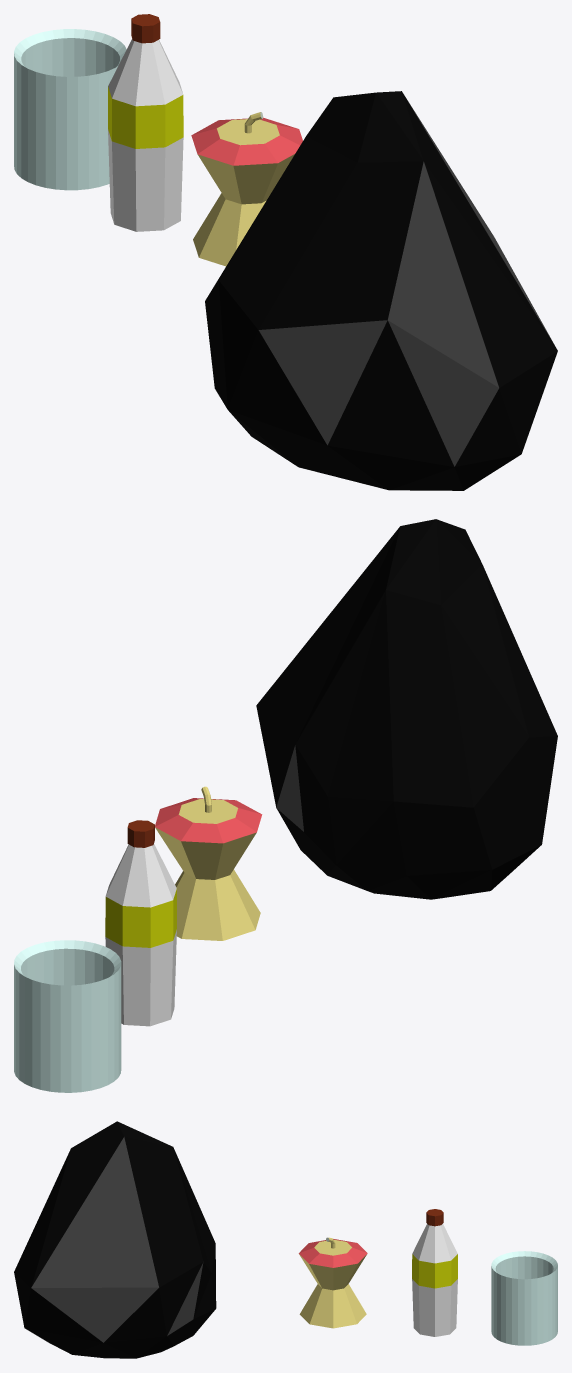
The model's file is Waste.fbx.
3 views of the same model, one above another, from view 1: azimuth 30°, elevation 25°; view 2: azimuth 150°, elevation 25°; view 3: azimuth 270°, elevation 25° (orthographic). The views are drawn at different scales.
Parts seen in each view (by area): view 1: Icosphere, Cylinder.001, Circle, Cylinder; view 2: Icosphere, Cylinder.001, Circle, Cylinder; view 3: Icosphere, Cylinder.001, Circle, Cylinder.
Part boxes in pixels (x1=…): Icosphere: x1=205, y1=91, x2=557, y2=490; Cylinder.001: x1=14, y1=29, x2=126, y2=190; Circle: x1=108, y1=14, x2=183, y2=231; Cylinder: x1=191, y1=112, x2=302, y2=266; Icosphere: x1=256, y1=519, x2=557, y2=899; Cylinder.001: x1=14, y1=940, x2=121, y2=1092; Circle: x1=105, y1=820, x2=176, y2=1026; Cylinder: x1=155, y1=786, x2=262, y2=940; Icosphere: x1=14, y1=1121, x2=216, y2=1358; Cylinder.001: x1=491, y1=1251, x2=557, y2=1345; Circle: x1=412, y1=1209, x2=457, y2=1336; Cylinder: x1=298, y1=1237, x2=367, y2=1328.
Bounding box in the file's own units: 286 × 365 × 807.
